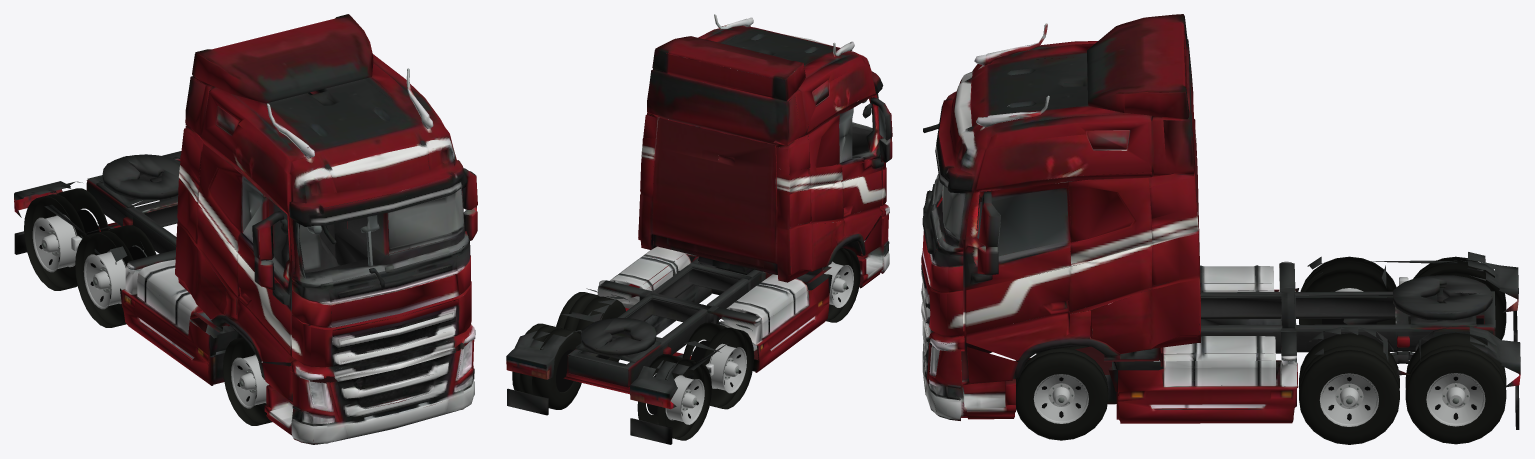
Rendered from carreta-cab-1.glb.
3 renders of one model, left to right at view 1: azimuth 30°, elevation 25°; view 2: azimuth 150°, elevation 25°; view 3: azimuth 270°, elevation 25°, orthographic. The views are drawn at different scales.
Parts seen in each view (by area): view 1: Frota_cab, Tyre_Rear2_L, Tyre_Rear_L, Tyre_Front_L; view 2: Frota_cab, Tyre_Rear_L, Tyre_Rear2_L, Tyre_Rear2_R, Tyre_Front_L, Tyre_Rear_R; view 3: Frota_cab, Tyre_Rear_R, Tyre_Rear2_R, Tyre_Front_R, Tyre_Rear_L, Tyre_Rear2_L.
Boxes of the visible parts, x1,y1,x2,y2 form: Frota_cab: (14, 14, 477, 444); Tyre_Rear2_L: (24, 188, 109, 290); Tyre_Rear_L: (75, 225, 156, 327); Tyre_Front_L: (223, 337, 272, 425); Frota_cab: (506, 14, 892, 444); Tyre_Rear_L: (682, 322, 754, 409); Tyre_Rear2_L: (637, 354, 711, 440); Tyre_Rear2_R: (512, 323, 581, 409); Tyre_Front_L: (809, 247, 860, 322); Tyre_Rear_R: (556, 292, 625, 362); Frota_cab: (921, 14, 1520, 429); Tyre_Rear_R: (1299, 333, 1399, 444); Tyre_Rear2_R: (1405, 332, 1506, 444); Tyre_Front_R: (1016, 348, 1108, 440); Tyre_Rear_L: (1299, 256, 1396, 324); Tyre_Rear2_L: (1408, 256, 1506, 339).
Size of the model in its own units: 3.03 by 4.29 by 6.8.
Materials: 1 (1 with a texture image).
